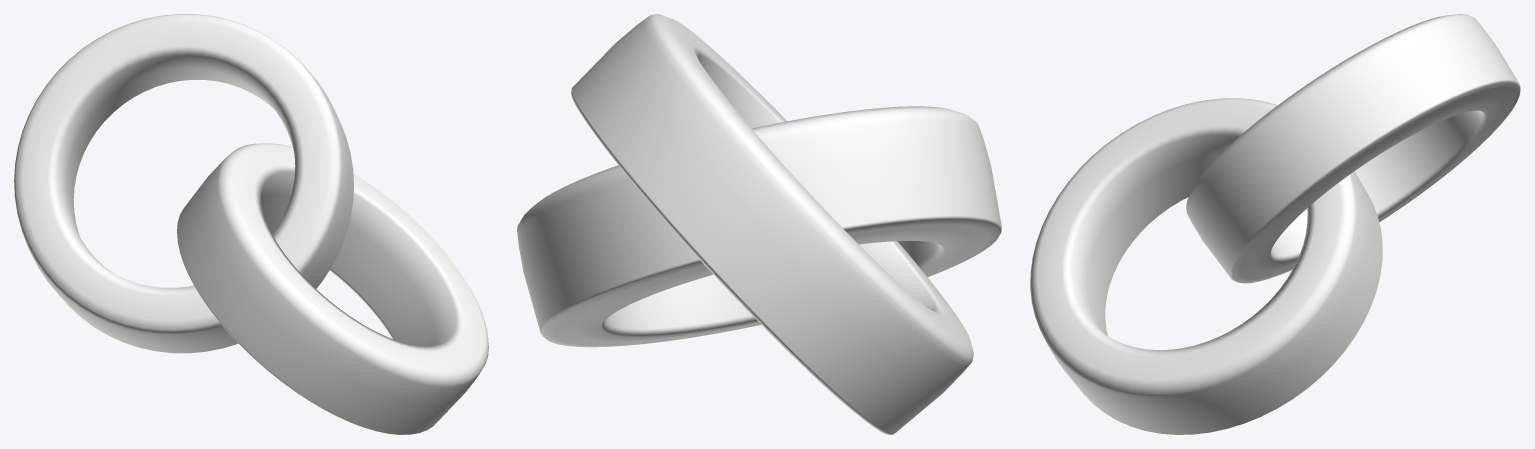
The picture shows the model from 3 angles, left to right: view 1: azimuth 30°, elevation 25°; view 2: azimuth 150°, elevation 25°; view 3: azimuth 270°, elevation 25°; orthographic projection. The views are drawn at different scales.
Visible parts, largest first — view 1: pTorus14, pTorus12; view 2: pTorus12, pTorus14; view 3: pTorus14, pTorus12.
Part boxes in pixels (x1,y1,x2,y2): pTorus14: (177,143,488,434); pTorus12: (14,14,353,353); pTorus12: (571,14,973,434); pTorus14: (517,106,1001,347); pTorus14: (1030,98,1382,434); pTorus12: (1186,14,1520,283).
Bounding box in the file's own units: 0.8091 × 0.7031 × 0.909.
2 materials, 2 textured.
